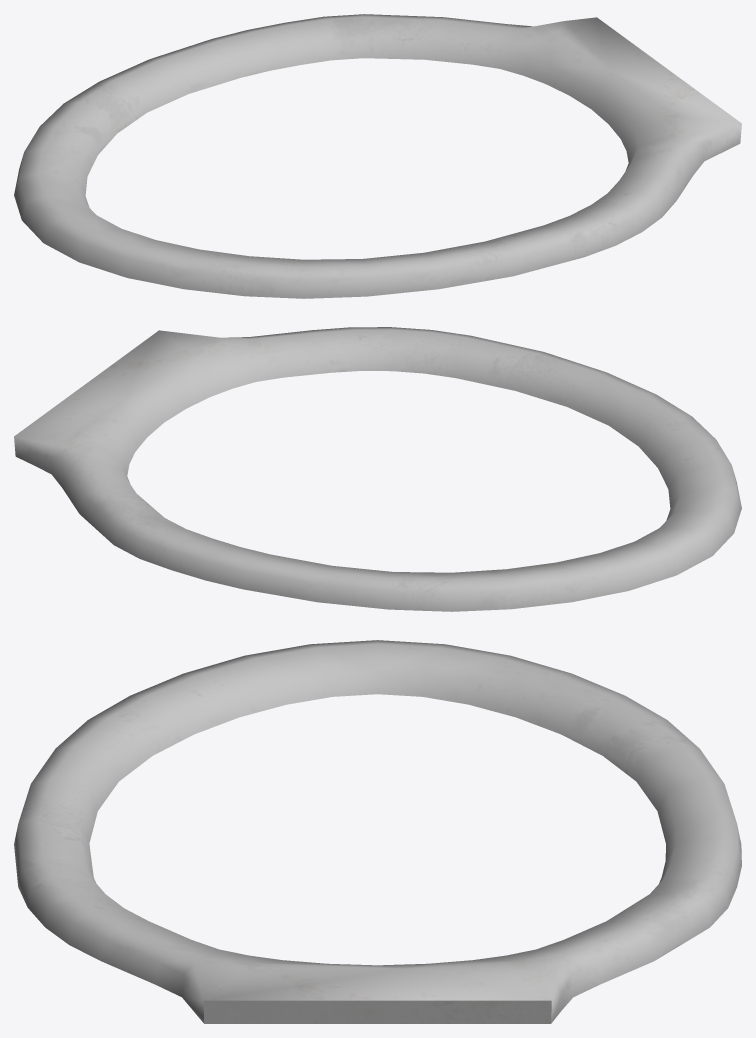
Rendered from SM_Toilet_A1_Bottom.fbx.
The picture shows the model from 3 angles, top to bottom: view 1: azimuth 30°, elevation 25°; view 2: azimuth 150°, elevation 25°; view 3: azimuth 270°, elevation 25°; orthographic projection. The views are drawn at different scales.
Parts seen in each view (by area): view 1: SM_Toilet_A1_Bottom; view 2: SM_Toilet_A1_Bottom; view 3: SM_Toilet_A1_Bottom.
Part boxes in pixels (x1,y1,x2,y2): SM_Toilet_A1_Bottom: [14, 14, 741, 298]; SM_Toilet_A1_Bottom: [14, 327, 741, 611]; SM_Toilet_A1_Bottom: [14, 640, 741, 1023].
Bounding box in the file's own units: 57.57 × 48.28 × 2.17.
Materials: 1 (1 with a texture image).
